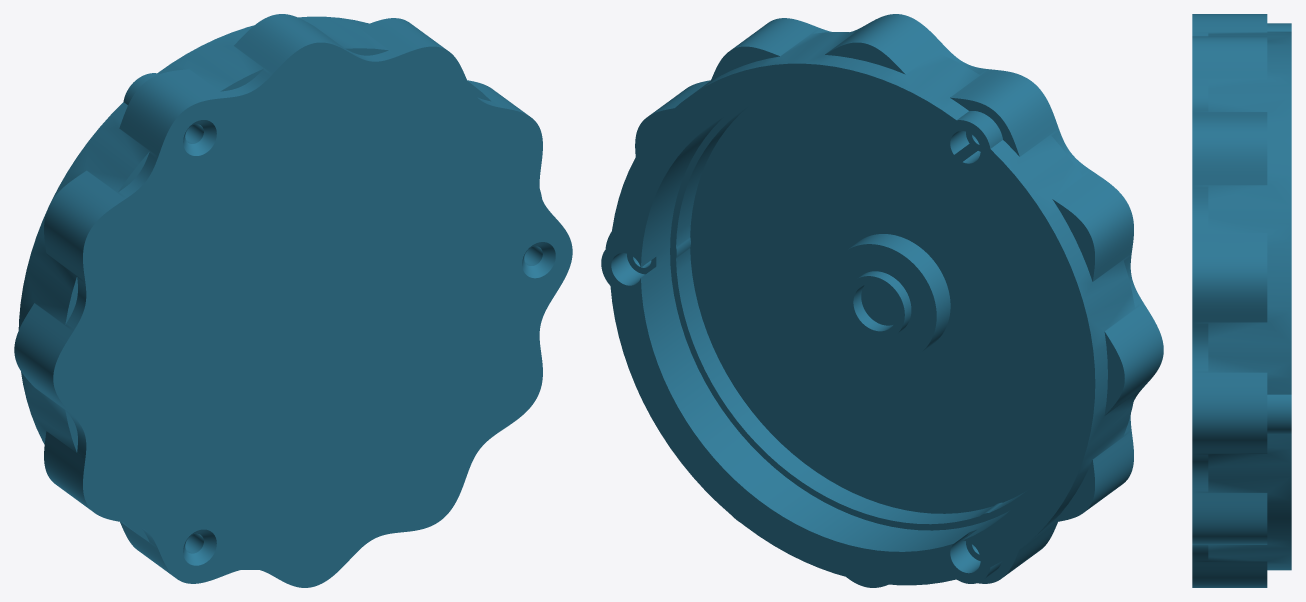
Rendered from Cap_scalloped_coin.obj.
3 views of the same model, side by side, from view 1: azimuth 30°, elevation 25°; view 2: azimuth 150°, elevation 25°; view 3: azimuth 270°, elevation 25° (orthographic). The views are drawn at different scales.
Visible parts, largest first — view 1: Cap_scalloped_coin; view 2: Cap_scalloped_coin; view 3: Cap_scalloped_coin.
Boxes of the visible parts, x1,y1,x2,y2 form: Cap_scalloped_coin: (14,14,572,587); Cap_scalloped_coin: (601,14,1163,587); Cap_scalloped_coin: (1192,14,1291,587).
Size of the model in its own units: 61.6 by 61.6 by 10.6.
